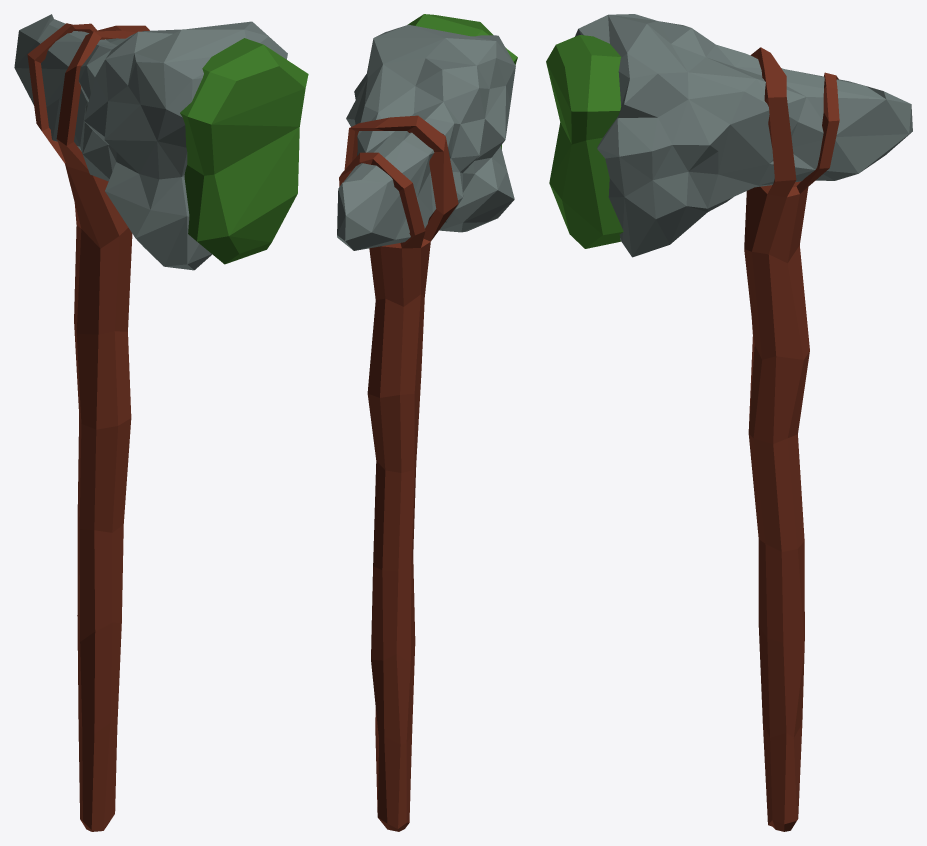
File: battleHammer.fbx
The picture shows the model from 3 angles, left to right: view 1: azimuth 30°, elevation 25°; view 2: azimuth 150°, elevation 25°; view 3: azimuth 270°, elevation 25°; orthographic projection. The views are drawn at different scales.
Parts seen in each view (by area): view 1: Cylinder; view 2: Cylinder; view 3: Cylinder.
Part boxes in pixels (box(x1,y1,x2,y2)): Cylinder: box(14, 14, 308, 831); Cylinder: box(337, 14, 517, 831); Cylinder: box(546, 14, 912, 831).
Size of the model in its own units: 93.78 by 428 by 176.
